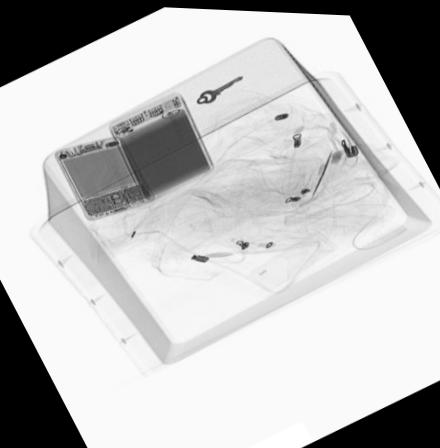Powerbank: (109, 88, 218, 201)
